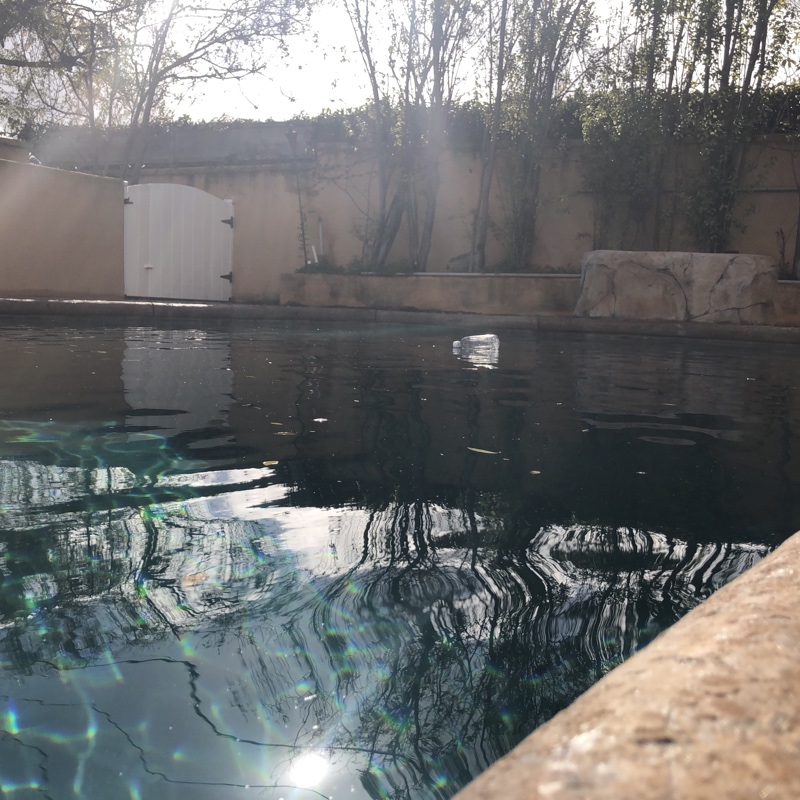Plastic Bottle: (452, 335, 500, 353)
